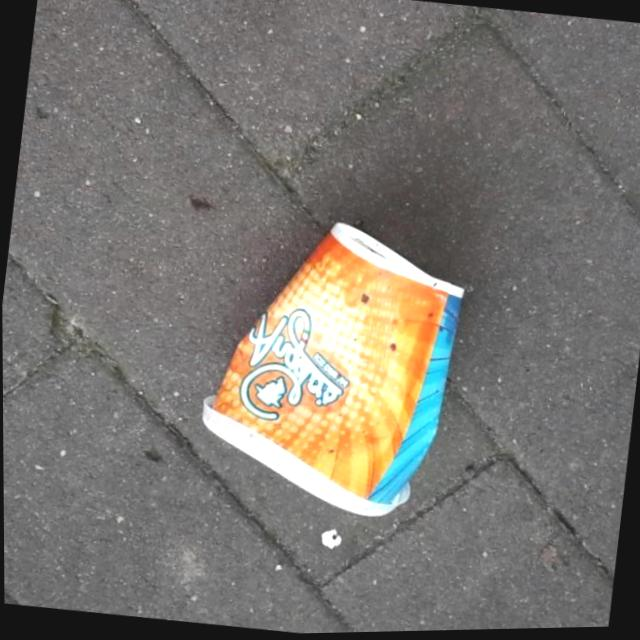Paper: (188, 201, 477, 533)
